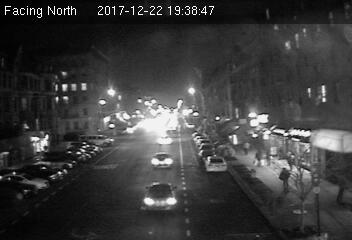car: (141, 182, 179, 213), (204, 155, 227, 173), (149, 152, 173, 168), (157, 135, 173, 145)
pedestrian: (277, 165, 291, 194)
